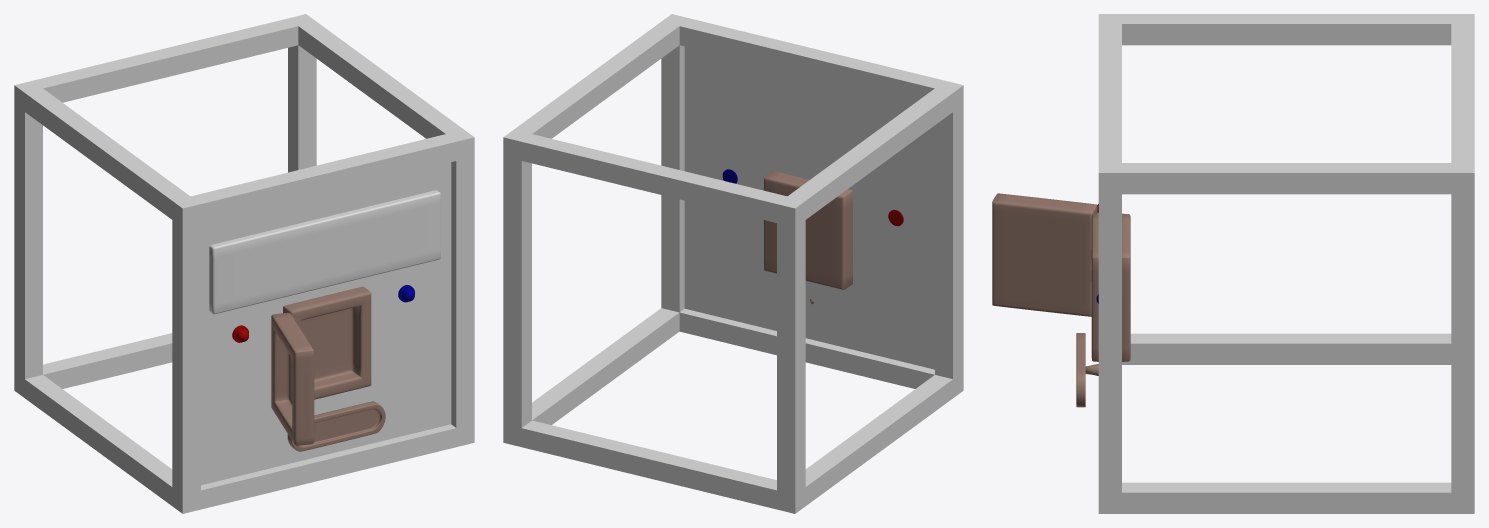
Rendered from Pigpen_P1_01.fbx.
3 renders of one model, left to right at view 1: azimuth 30°, elevation 25°; view 2: azimuth 150°, elevation 25°; view 3: azimuth 270°, elevation 25°, orthographic. The views are drawn at different scales.
Parts seen in each view (by area): view 1: Display Plane, Hint Display, Box048, Box049, Box055, Box056, Box051, Box050, ON, Box054, Box052, Box053 (+4 smaller); view 2: Display Plane, Box055, Box056, Box046, Box057, Box048, Box049, Box054, Box052, Box053, Box051, Box050 (+2 smaller); view 3: ON lid, Box053, Box047, Box054, Box052, Box051, Box046, Box049, Box056, ON, SOLVE.
Part boxes in pixels (left/top/right/bottom): Display Plane: left=201, top=162, right=451, bottom=485; Hint Display: left=209, top=190, right=440, bottom=314; Box048: left=172, top=209, right=200, bottom=513; Box049: left=183, top=134, right=474, bottom=222; Box055: left=14, top=86, right=42, bottom=389; Box056: left=15, top=14, right=305, bottom=102; Box051: left=451, top=138, right=474, bottom=442; Box050: left=183, top=424, right=474, bottom=513; ON: left=283, top=286, right=371, bottom=399; Box054: left=14, top=85, right=190, bottom=219; Box052: left=14, top=375, right=182, bottom=513; Box053: left=298, top=14, right=473, bottom=138; Display Plane: left=684, top=46, right=934, bottom=369; Box055: left=777, top=209, right=805, bottom=513; Box056: left=503, top=134, right=794, bottom=222; Box046: left=503, top=138, right=531, bottom=442; Box057: left=503, top=420, right=794, bottom=513; Box048: left=935, top=86, right=963, bottom=389; Box049: left=672, top=14, right=962, bottom=102; Box054: left=787, top=85, right=963, bottom=219; Box052: left=795, top=375, right=963, bottom=513; Box053: left=504, top=14, right=679, bottom=138; Box051: left=661, top=45, right=684, bottom=312; Box050: left=679, top=308, right=934, bottom=388; ON lid: left=992, top=193, right=1097, bottom=316; Box053: left=1099, top=163, right=1474, bottom=194; Box047: left=1099, top=482, right=1474, bottom=513; Box054: left=1099, top=14, right=1473, bottom=45; Box052: left=1122, top=333, right=1451, bottom=364; Box051: left=1098, top=173, right=1121, bottom=513; Box046: left=1451, top=173, right=1474, bottom=513; Box049: left=1098, top=14, right=1121, bottom=172; Box056: left=1451, top=14, right=1474, bottom=172; ON: left=1091, top=213, right=1130, bottom=361; SOLVE: left=1076, top=333, right=1098, bottom=407.
Bounding box in the file's own units: 126 × 126 × 162.
